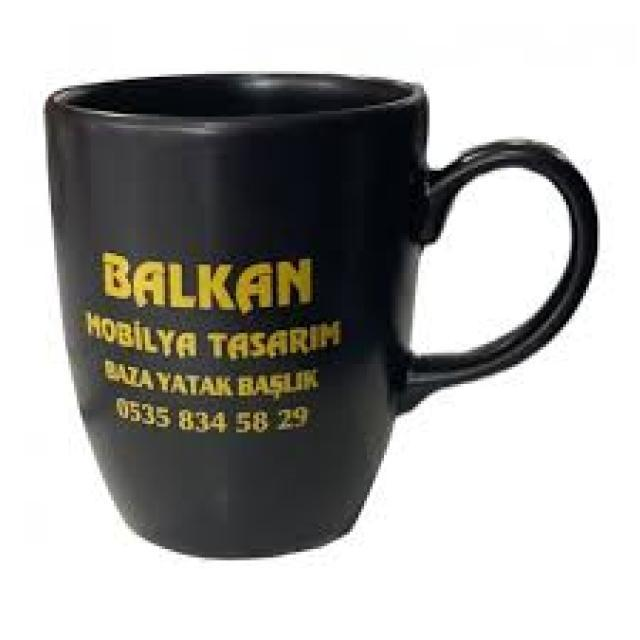taza: (43, 70, 600, 558)
